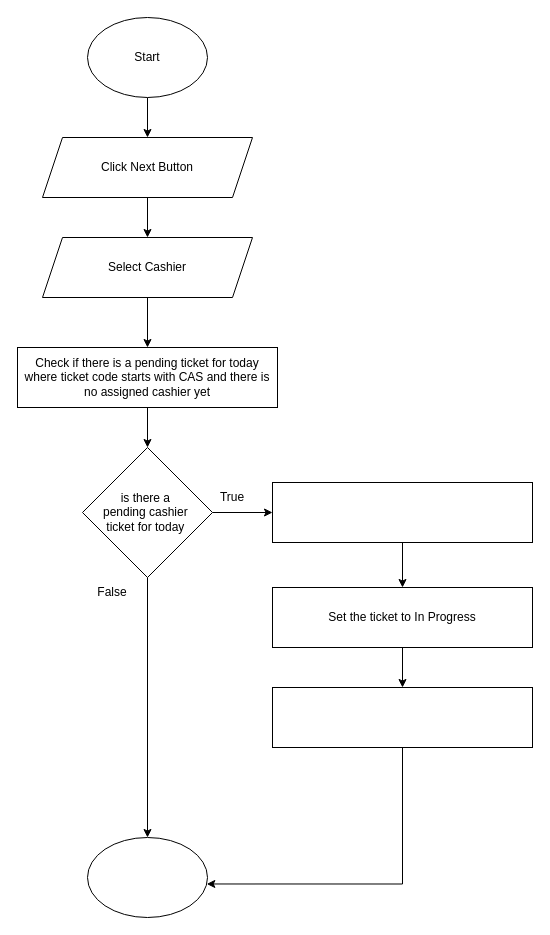
Some shapes in this 550 by 935 pixel diagram are drawn without their labels. Here are the shapes that lost their labels. From the top down, the box of each, then its label:
(272, 482, 532, 542): Assign the earliest pending cashier ticket to the selected cashier
(272, 686, 532, 748): Call the new In Progress ticket
(86, 836, 208, 918): End
